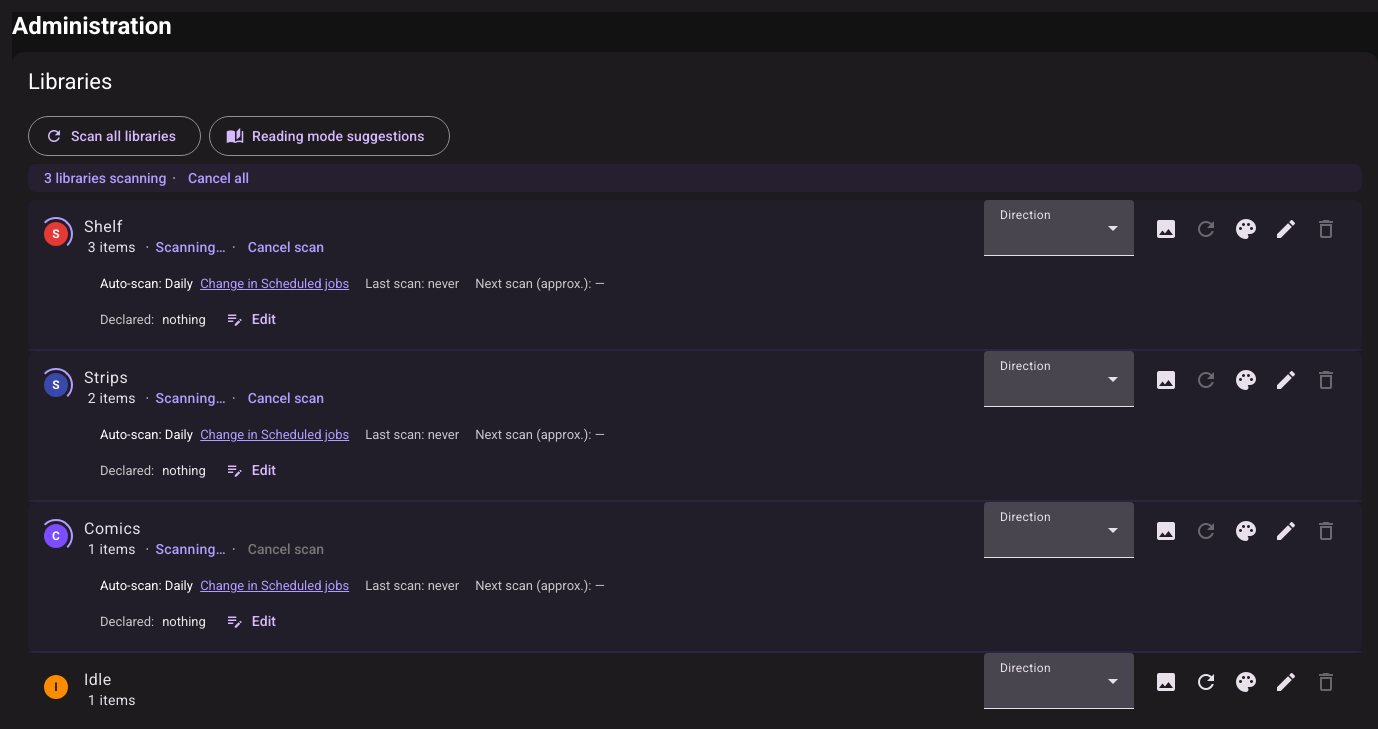
Scenario: AdminComponent directory browser row › 1.45.0: with several libraries scanning, one line over the list says how many and Cancel all stops each known run once
expect the text "·" next to "3 libraries scanning" is shown: met, box [172,170,176,186]
expect the number of elements with test id "lib-scan-bar" is 3: met, box [28,349,1362,351]; [28,500,1362,502]; [28,651,1362,653]
What coordinates should you click on to do the following:
click the button with test id "lib-cancel-all"
I would click on:
 (218, 178)
Its box is [182,166,255,190].
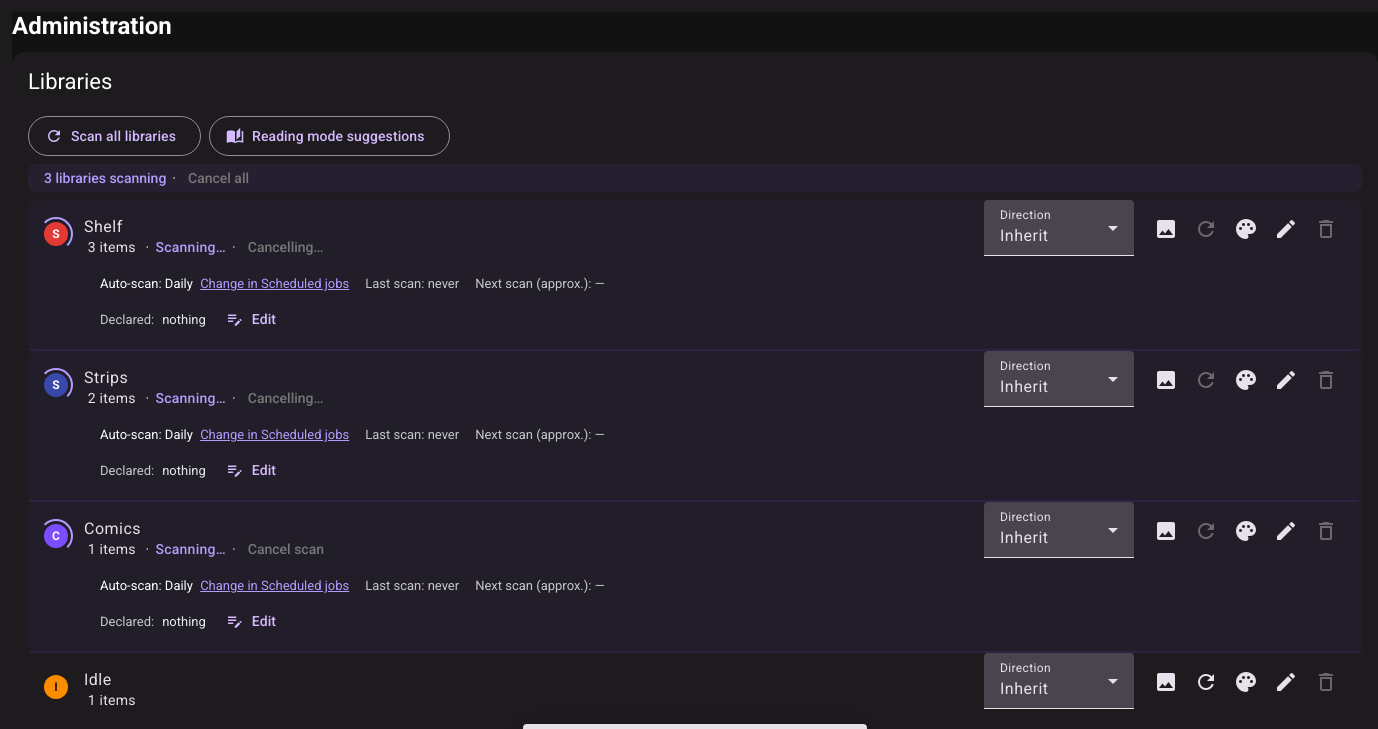
expect the button with test id "lib-cancel-all" is disabled: met, box [182,166,255,190]
